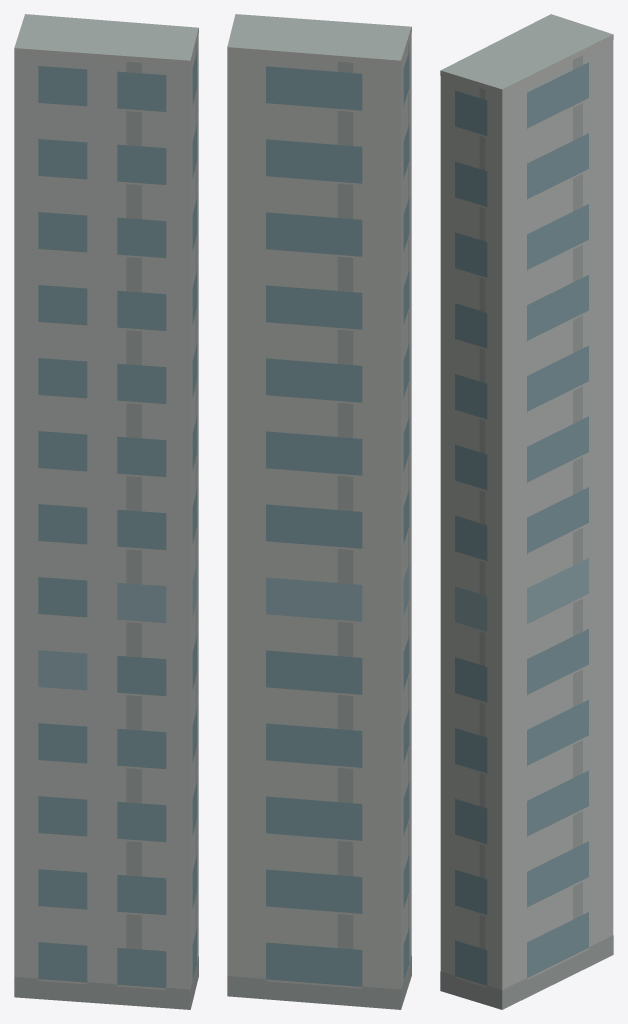
The model's file is survey-upis-32840818.glb.
3 views of the same model, side by side, from view 1: azimuth 30°, elevation 25°; view 2: azimuth 210°, elevation 25°; view 3: azimuth 270°, elevation 25° (orthographic). The views are drawn at different scales.
Visible parts, largest first — view 1: survey-upis-32840818.tmp; view 2: survey-upis-32840818.tmp; view 3: survey-upis-32840818.tmp.
Part boxes in pixels (<box>): survey-upis-32840818.tmp: <box>14,14,198,1009</box>; survey-upis-32840818.tmp: <box>227,14,411,1009</box>; survey-upis-32840818.tmp: <box>440,14,613,1009</box>.
Bounding box in the file's own units: 6.97 × 39.65 × 6.76.
